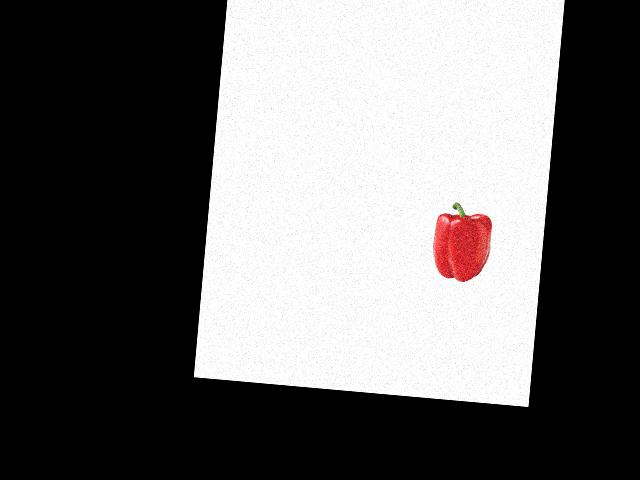bell_pepper: (426, 200, 497, 286)
